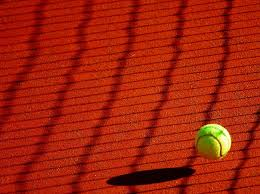tennis_ball: (195, 123, 232, 161)
